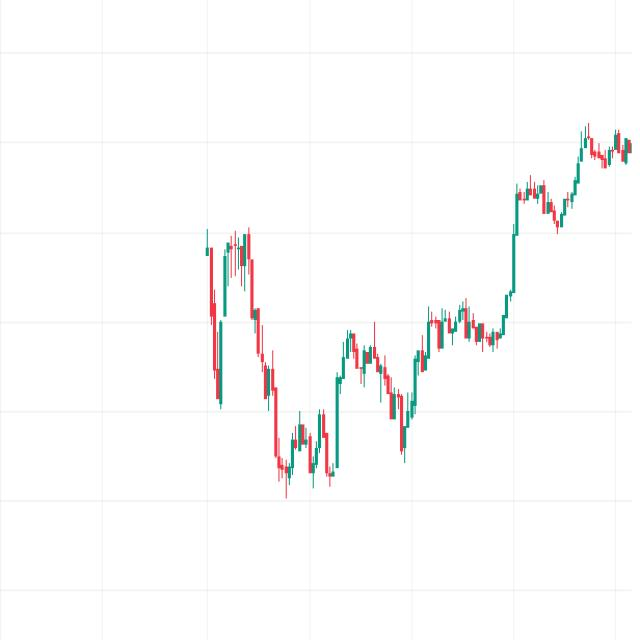Triple-Bottom: (268, 388, 346, 488)
